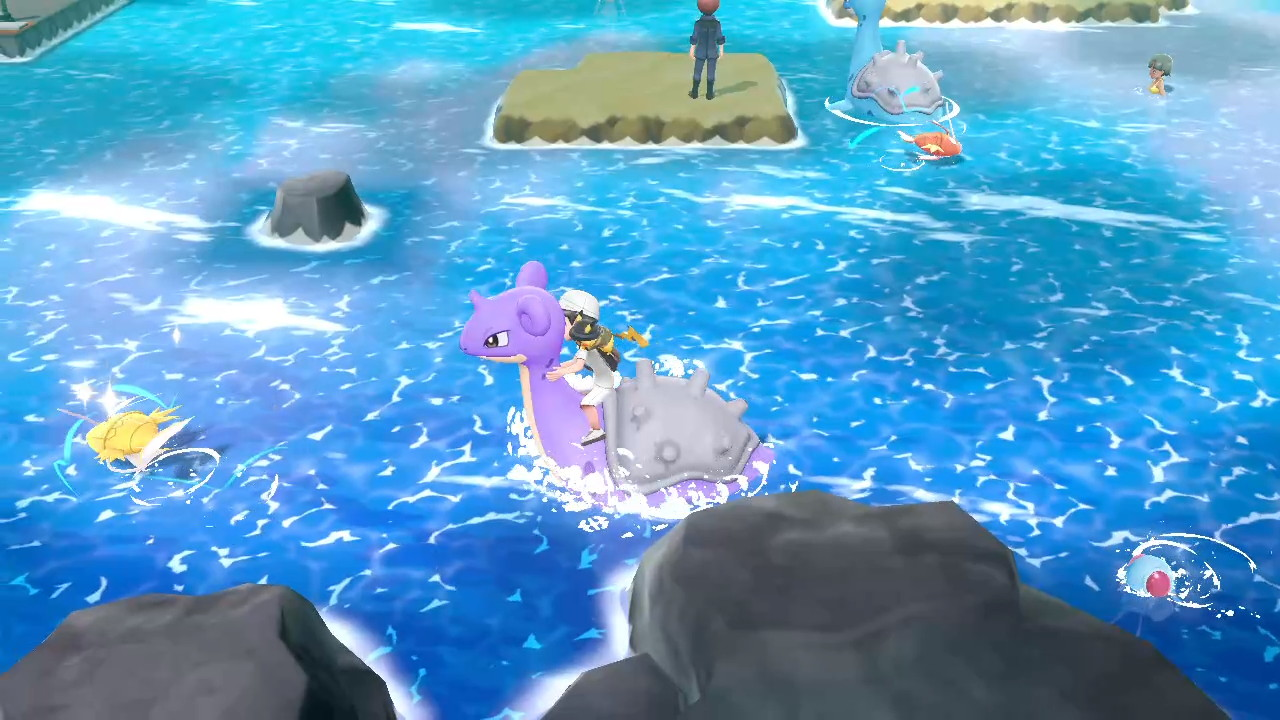Golden: (73, 390, 202, 484)
